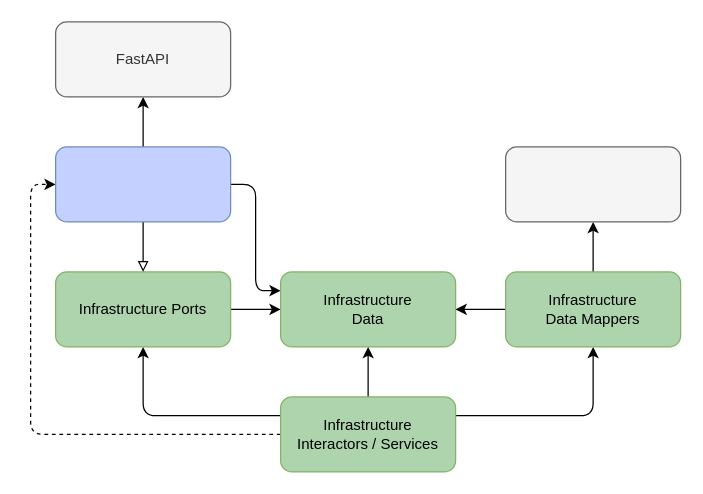
Some shapes in this 703 by 494 pixel diagram are drawn without their labels. The shapes that lost their labels are listed below. From the top down, each one's box as (x1, y1, x2, y2) in pixels, then its label:
(54, 146, 231, 222): Infrastructure Adapters
(504, 146, 681, 222): Infrastructure Data Source
